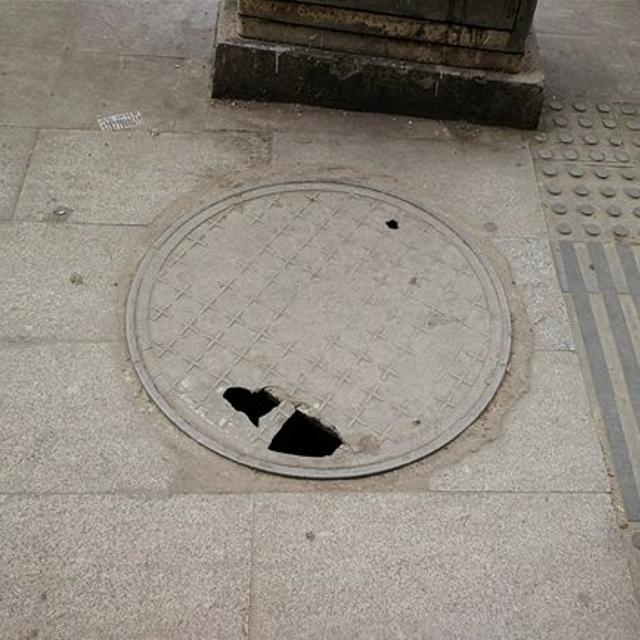broke: (127, 173, 512, 478)
